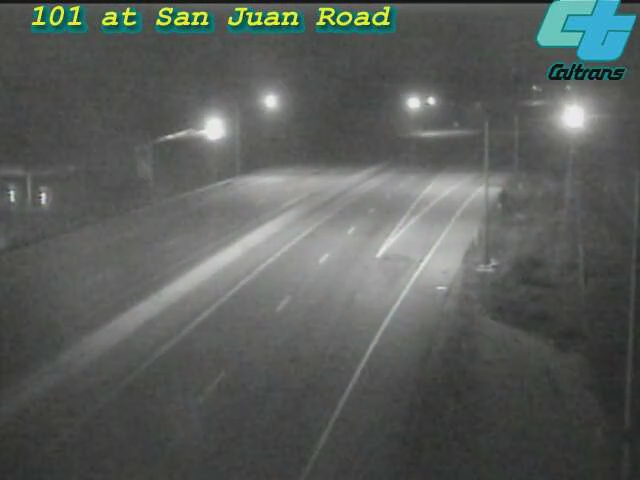vehicle: (548, 92, 598, 142)
